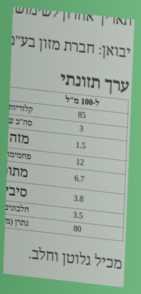carbs: (74, 156, 85, 169)
energy: (76, 109, 87, 122)
fat: (78, 123, 85, 135)
protein: (71, 209, 84, 223)
